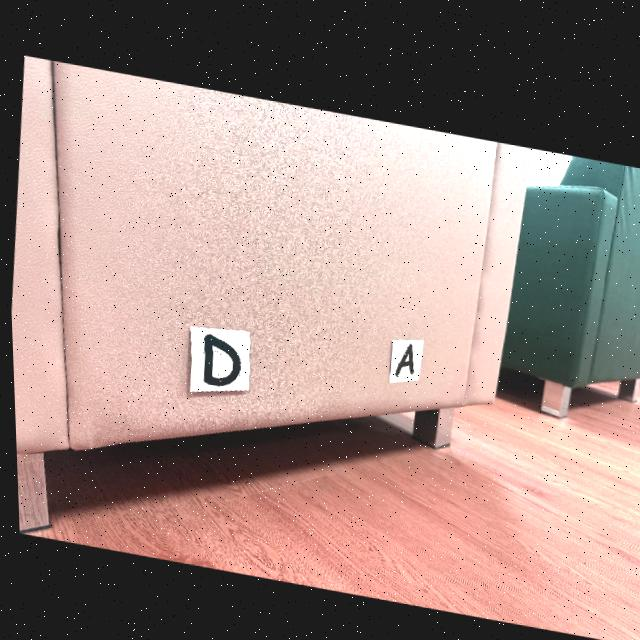A: (392, 336, 412, 368)
D: (200, 329, 238, 382)
